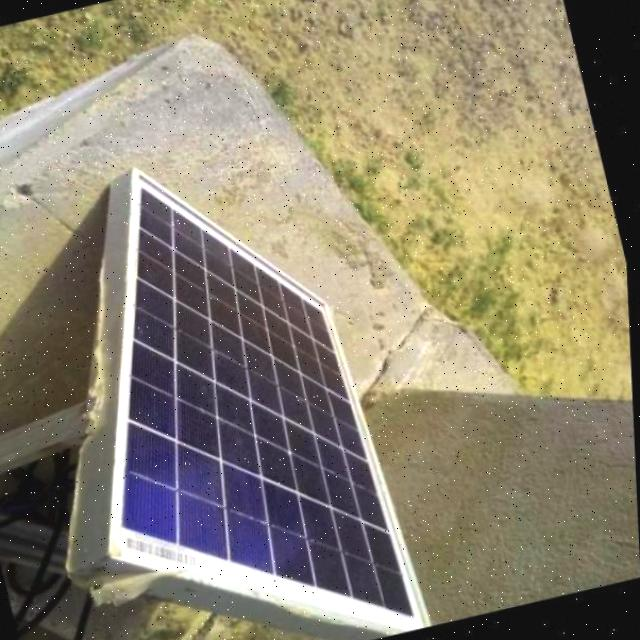Normal Solar Panel: (25, 134, 428, 640)
